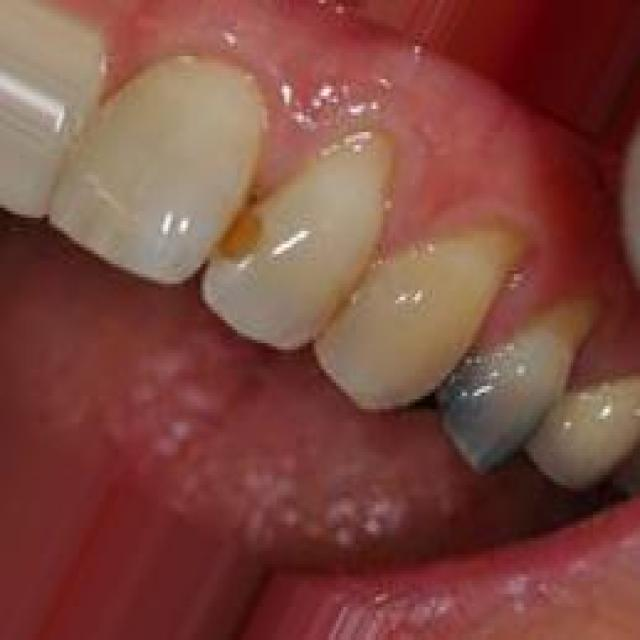caries: (212, 195, 272, 278)
